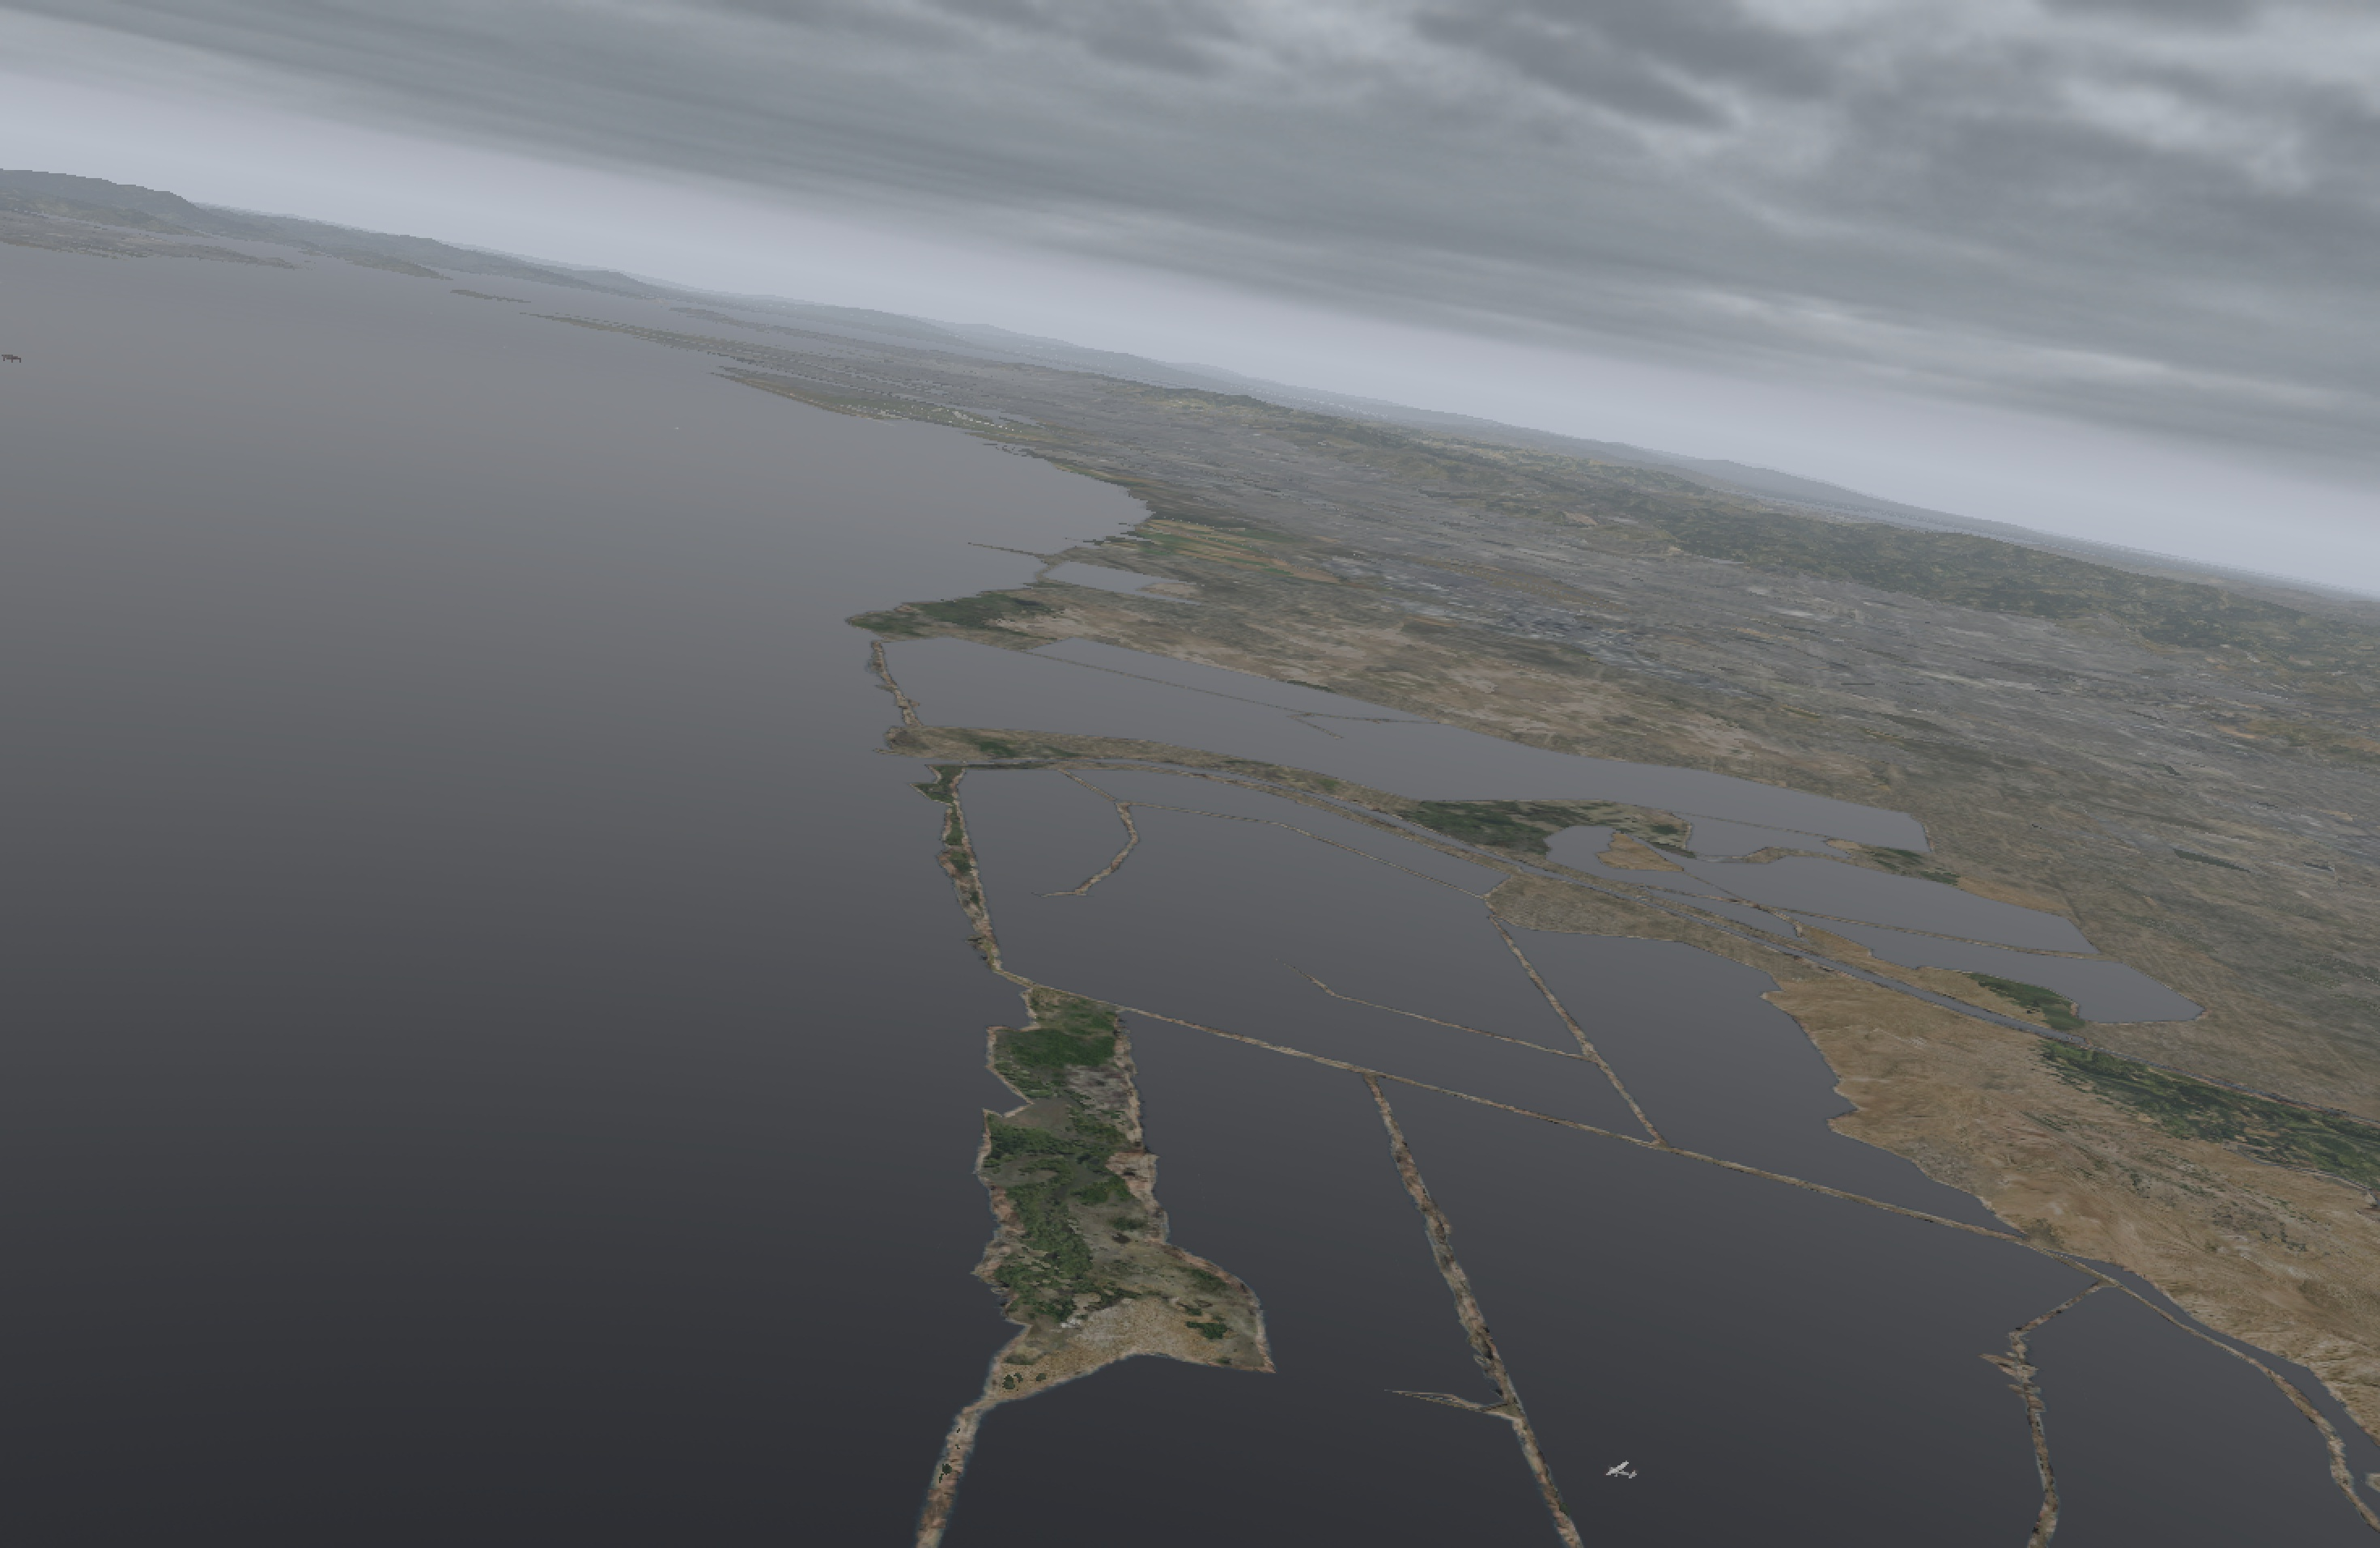aircraft: (1603, 1465, 1631, 1475)
